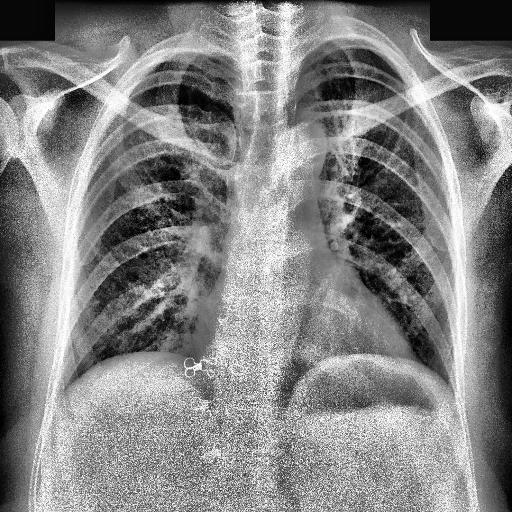0- Aortic enlargement: (282, 120, 328, 177), (292, 120, 326, 172)
3- Cardiomegaly: (194, 312, 416, 390), (192, 306, 416, 382), (194, 312, 422, 384)
